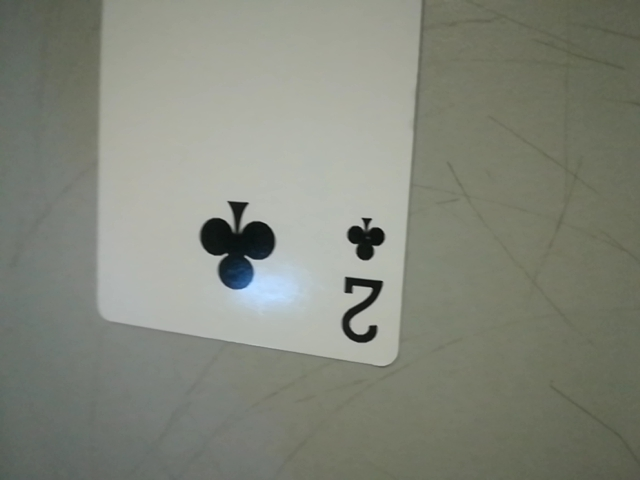mh 2: (330, 200, 401, 357)
